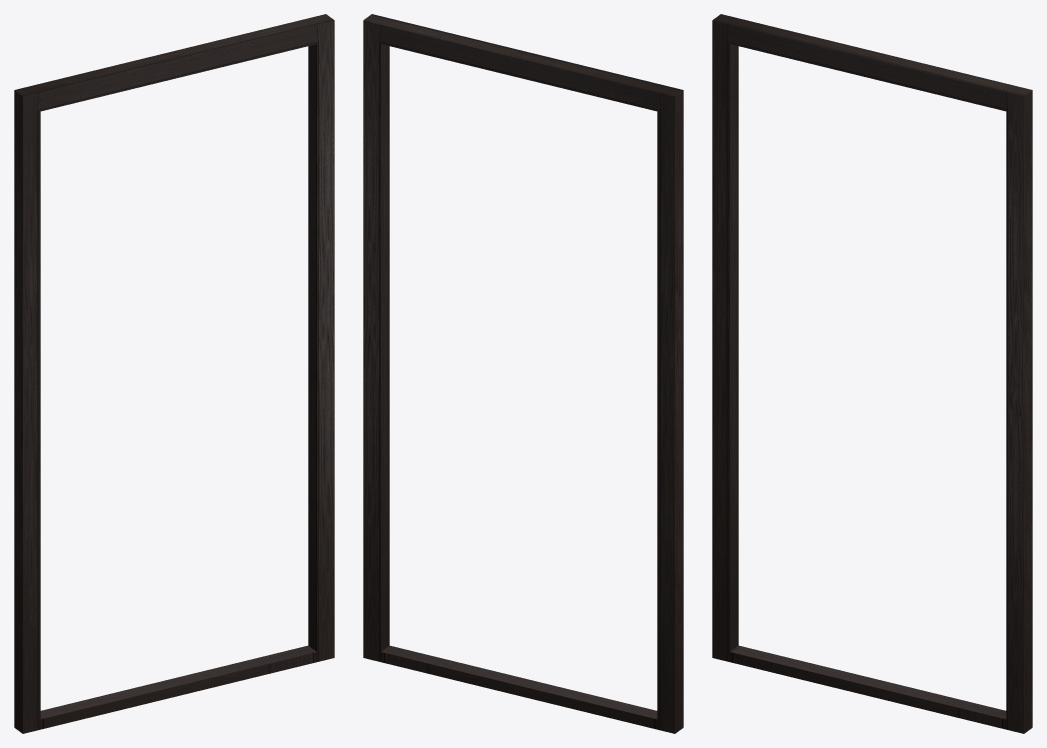
The model's file is Door04Frame.FBX.
The picture shows the model from 3 angles, left to right: view 1: azimuth 30°, elevation 25°; view 2: azimuth 150°, elevation 25°; view 3: azimuth 330°, elevation 25°; orthographic projection.
Visible parts, largest first — view 1: Door04Frame; view 2: Door04Frame; view 3: Door04Frame.
Part boxes in pixels (left/top/right/bottom): Door04Frame: left=14, top=14, right=334, bottom=733; Door04Frame: left=363, top=14, right=683, bottom=733; Door04Frame: left=712, top=14, right=1032, bottom=733.
Size of the model in its own units: 44.42 by 86.76 by 2.17.
